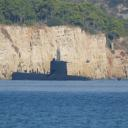submarine: (13, 61, 94, 82)
